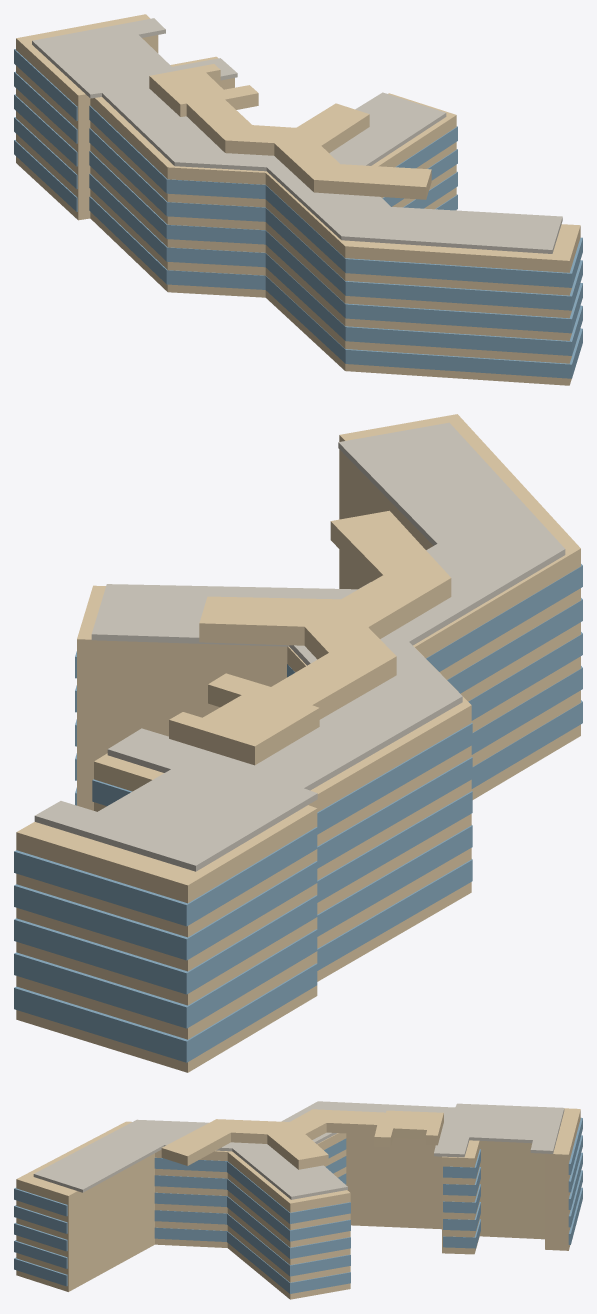
Rendered from sedona.glb.
The picture shows the model from 3 angles, top to bottom: view 1: azimuth 30°, elevation 25°; view 2: azimuth 150°, elevation 25°; view 3: azimuth 270°, elevation 25°; orthographic projection. The views are drawn at different scales.
Parts seen in each view (by area): view 1: part; view 2: part; view 3: part.
Boxes of the visible parts, bbox=[...] form: part: bbox=[14, 14, 582, 385]; part: bbox=[14, 414, 582, 1072]; part: bbox=[14, 1101, 582, 1299].
Size of the model in its own units: 2800932 by 1389131 by 6573895.
